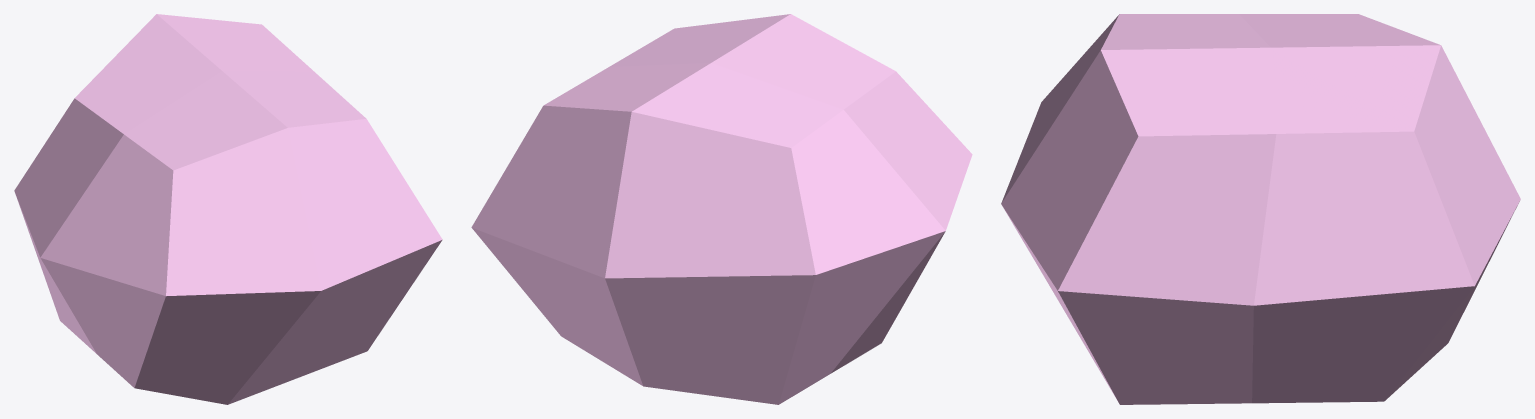
Rendered from Iron_FBX.fbx.
3 views of the same model, side by side, from view 1: azimuth 30°, elevation 25°; view 2: azimuth 150°, elevation 25°; view 3: azimuth 270°, elevation 25° (orthographic). The views are drawn at different scales.
Parts seen in each view (by area): view 1: Cube; view 2: Cube; view 3: Cube.
Part boxes in pixels (x1=…): Cube: x1=14, y1=14, x2=442, y2=404; Cube: x1=471, y1=14, x2=972, y2=404; Cube: x1=1001, y1=14, x2=1520, y2=404.
Size of the model in its own units: 370 by 264 by 376.
